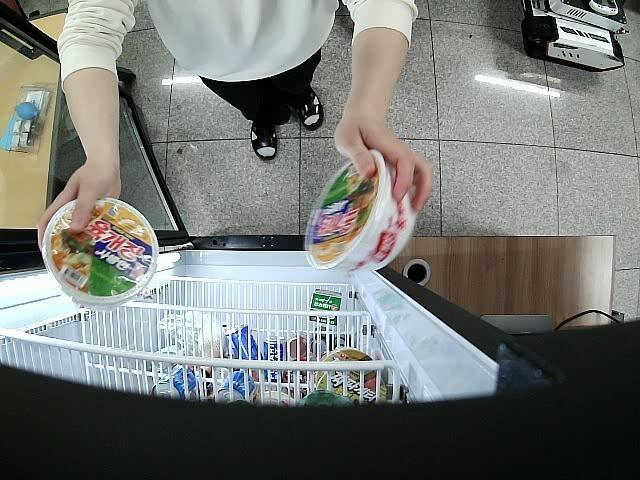09_yukGaeJang: (304, 148, 415, 273), (42, 200, 157, 310)
